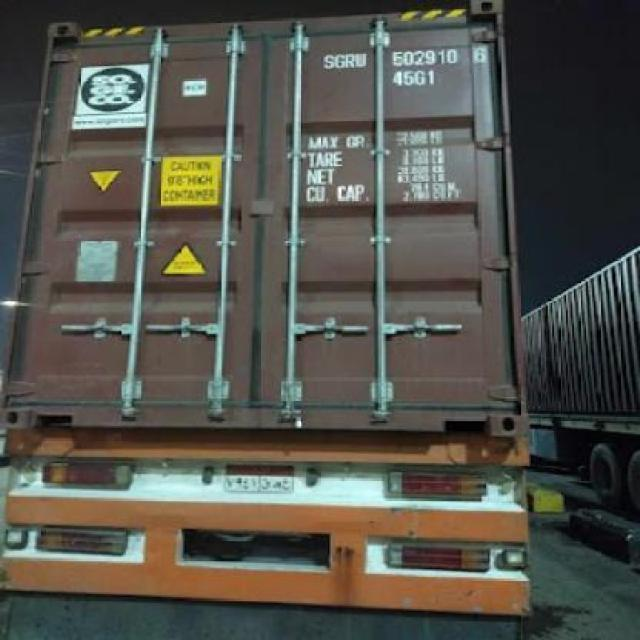ISO: (393, 68, 439, 87)
container_number: (323, 46, 486, 67)
